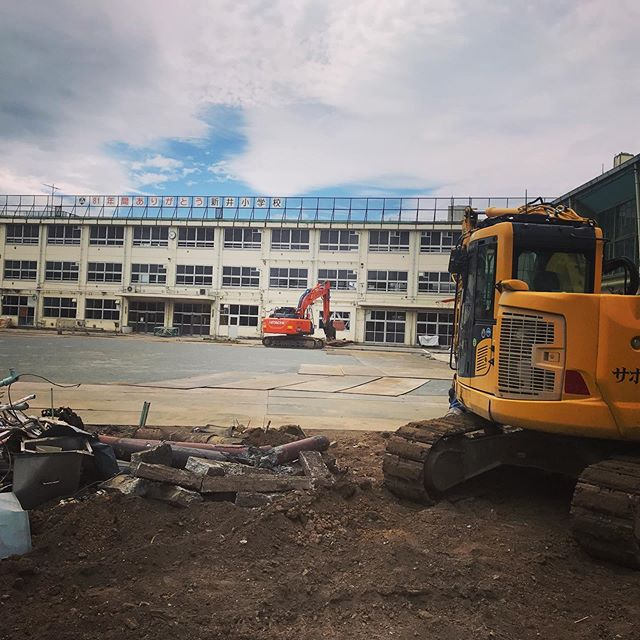building: (1, 209, 508, 357)
excavator: (403, 207, 640, 573), (256, 273, 336, 359)
sky: (1, 1, 640, 201)
